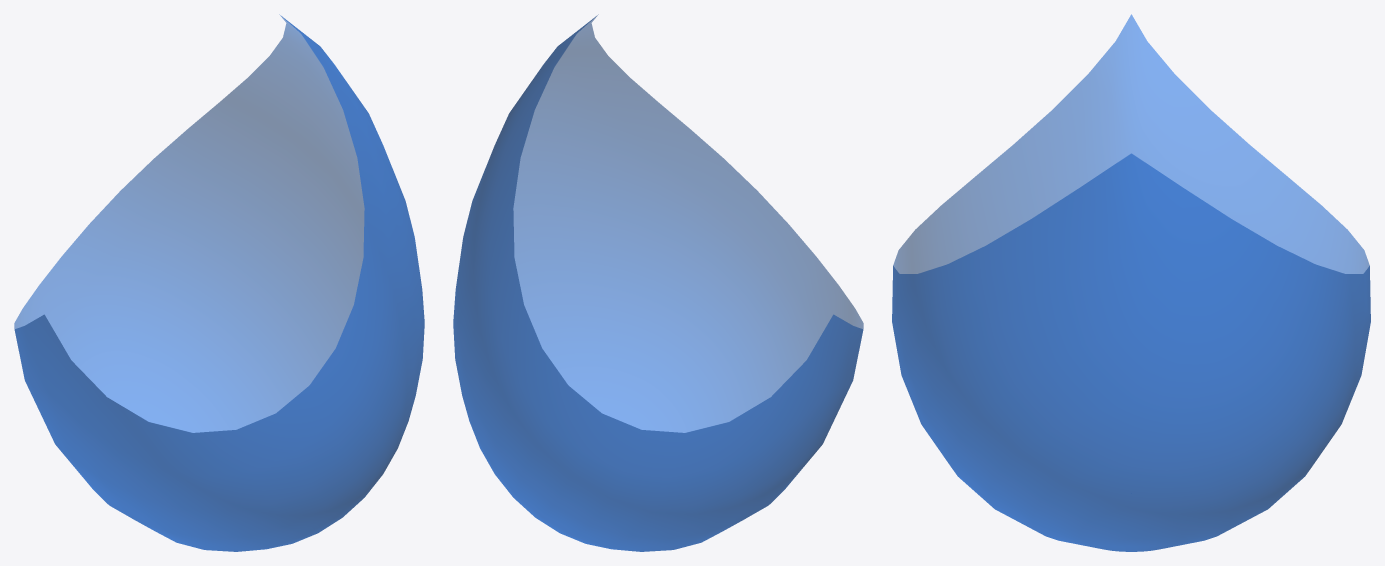
Rendered from Wisp D.dae.
3 views of the same model, side by side, from view 1: azimuth 30°, elevation 25°; view 2: azimuth 150°, elevation 25°; view 3: azimuth 270°, elevation 25° (orthographic). The views are drawn at different scales.
Visible parts, largest first — view 1: Sphere.003; view 2: Sphere.003; view 3: Sphere.003.
Part boxes in pixels (bbox=[...]): Sphere.003: bbox=[14, 14, 424, 551]; Sphere.003: bbox=[453, 14, 863, 551]; Sphere.003: bbox=[892, 14, 1370, 551].
Bounding box in the file's own units: 0.5895 × 0.6419 × 0.8078.
